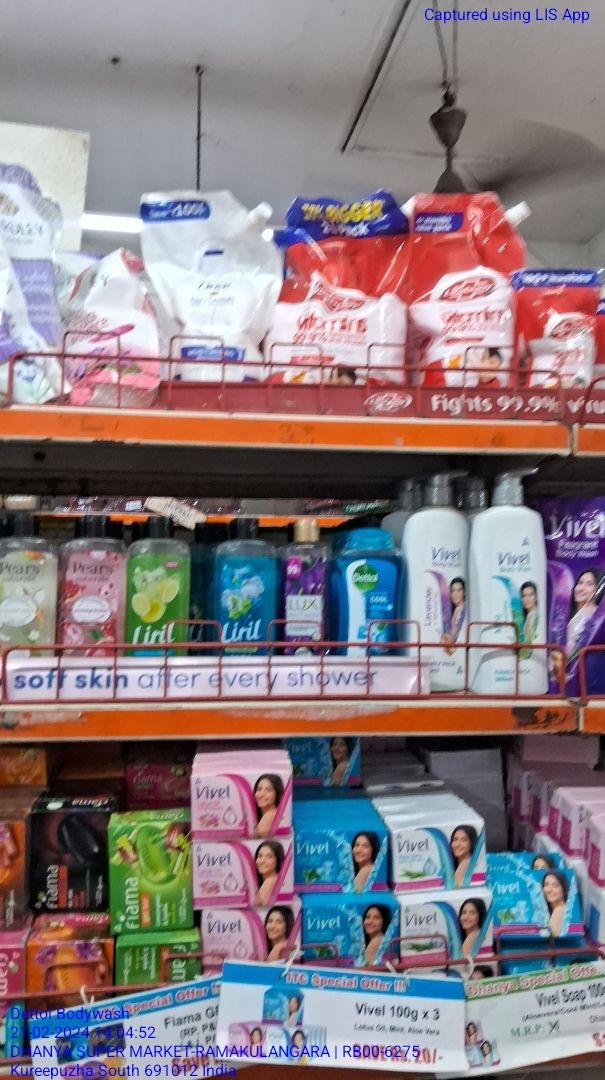Dettol_Bodywash_Cool: (333, 525, 404, 654)
Liril_Cooling_Mint_Body_Wash_250ML: (209, 516, 278, 655)
Liril_Lime_and_Tea_Tree_Oil_Body_Wash_250ML: (126, 516, 192, 656)
Lux_Black_Orchid_Scent_and_Juniper_Oil_Body_Wash_245ML: (280, 514, 335, 656)
